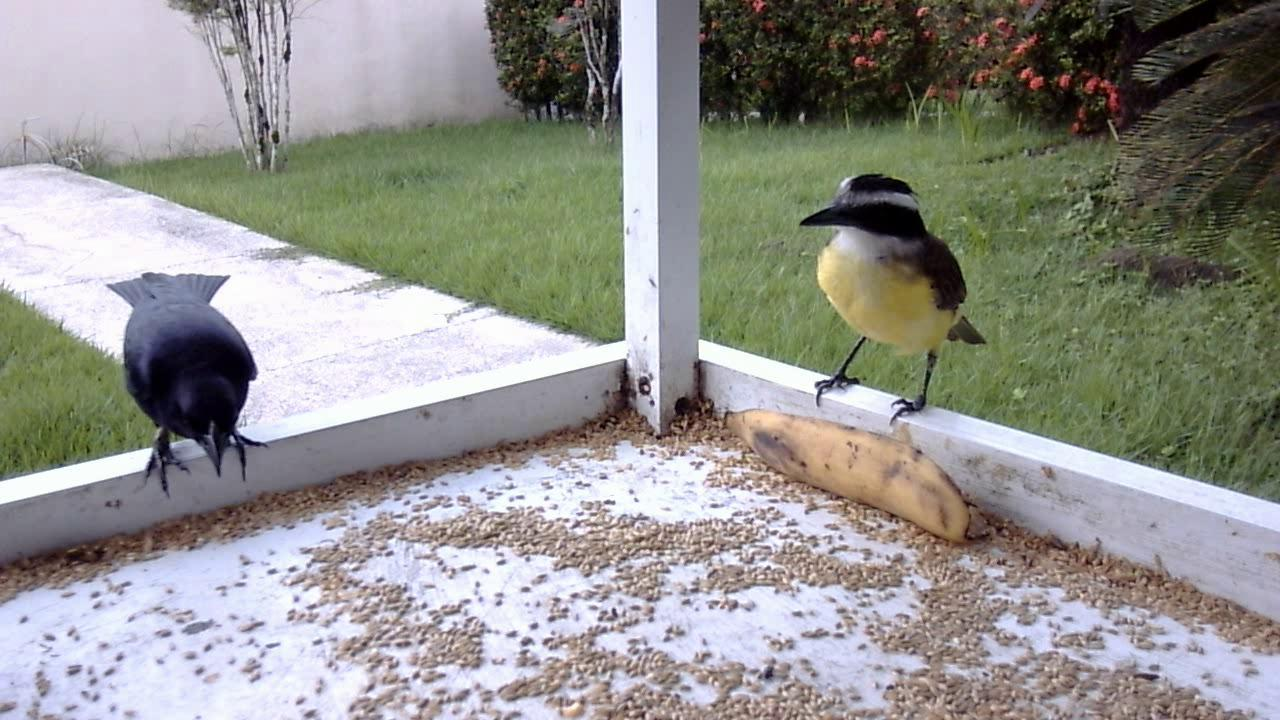bem_te_vi: (791, 168, 995, 431)
chupim: (97, 262, 275, 507)
